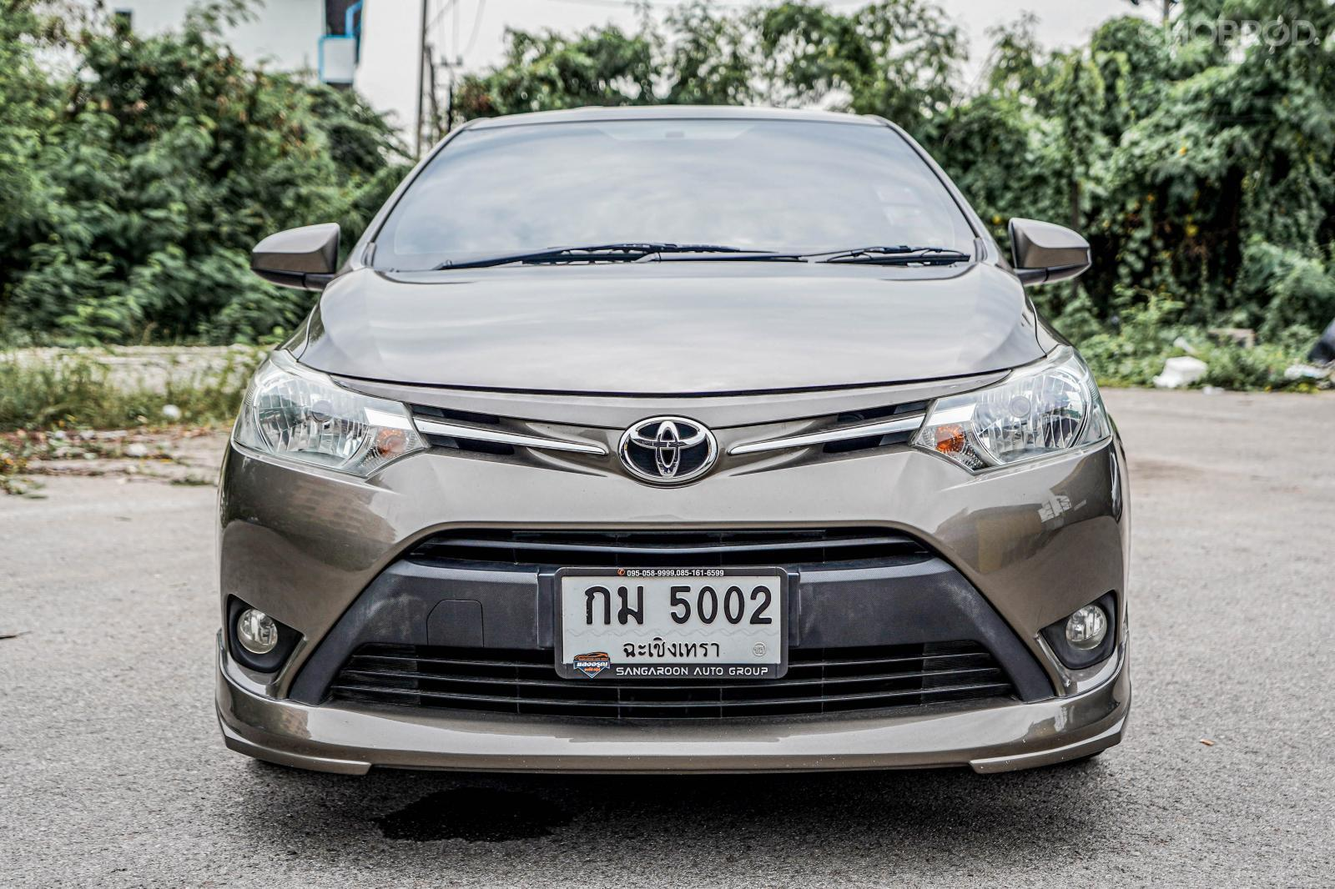license-plate: (549, 564, 795, 680)
